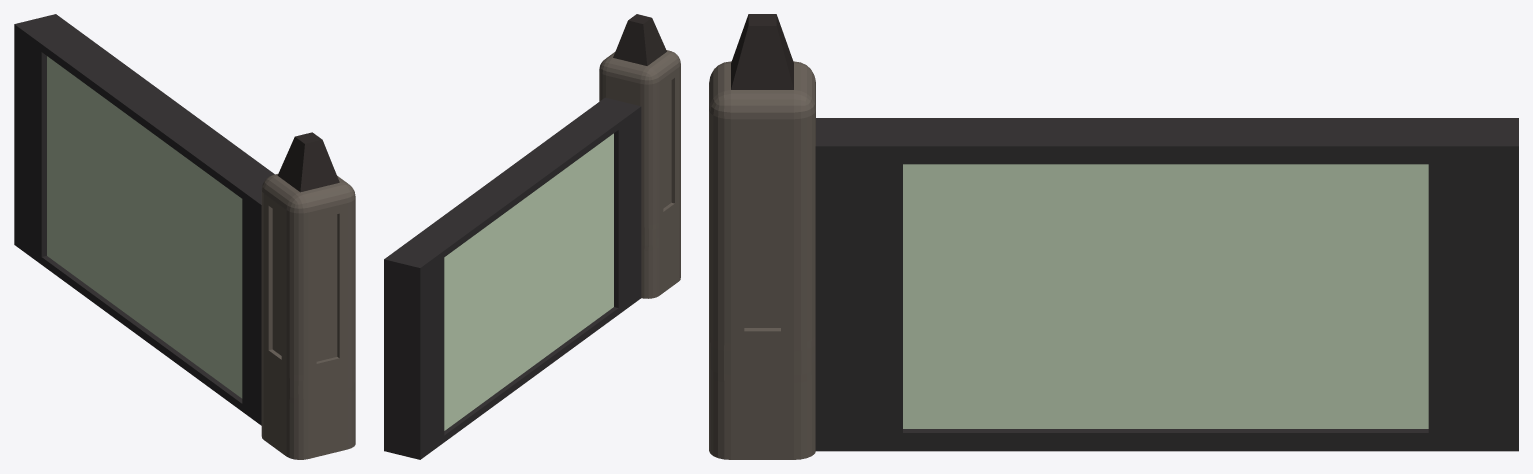
File: brickWall.fbx
The picture shows the model from 3 angles, left to right: view 1: azimuth 30°, elevation 25°; view 2: azimuth 150°, elevation 25°; view 3: azimuth 270°, elevation 25°; orthographic projection. The views are drawn at different scales.
Visible parts, largest first — view 1: Cube, Cube.001; view 2: Cube, Cube.001; view 3: Cube, Cube.001.
Part boxes in pixels (x1,y1,x2,y2): Cube: (14,14,274,425); Cube.001: (261,132,355,459); Cube: (384,97,641,459); Cube.001: (599,14,680,298); Cube: (815,118,1518,451); Cube.001: (709,14,815,459).
Size of the model in its own units: 200 by 860 by 1513.
